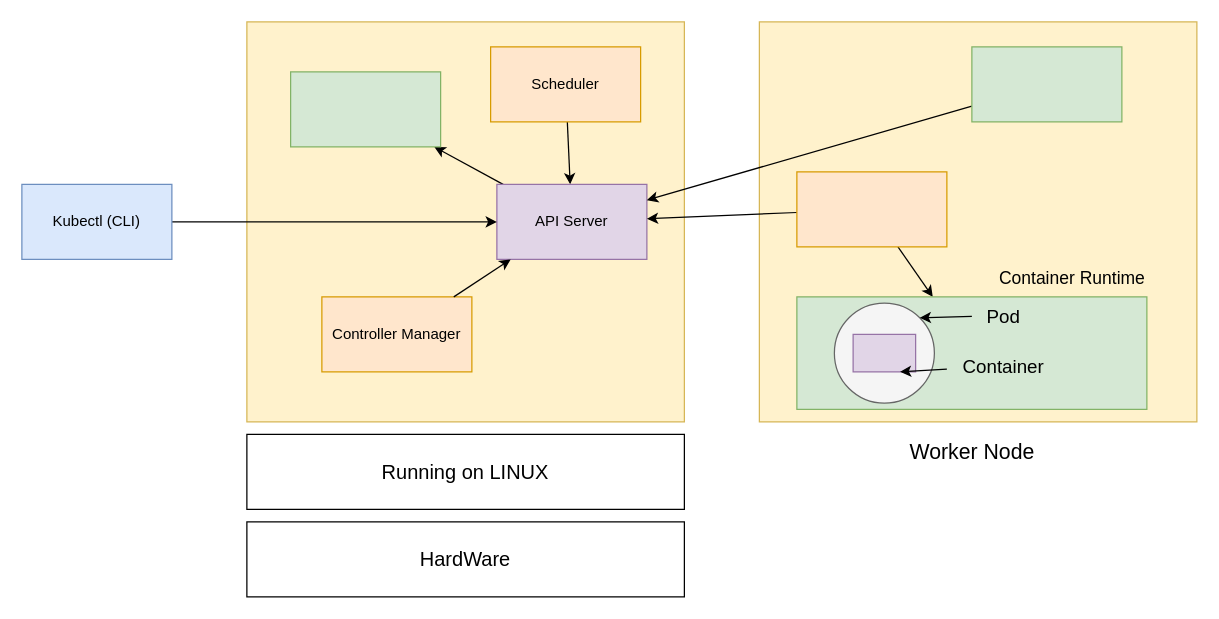
Image size: 1219x619. Some labels were removed from this diagram. Here are the shapes that lost their labels. From the top down, the centre of each, then its label:
pixel 1046 84: Kube-Proxy
pixel 365 109: etcd (database)
pixel 871 209: Kubelet
